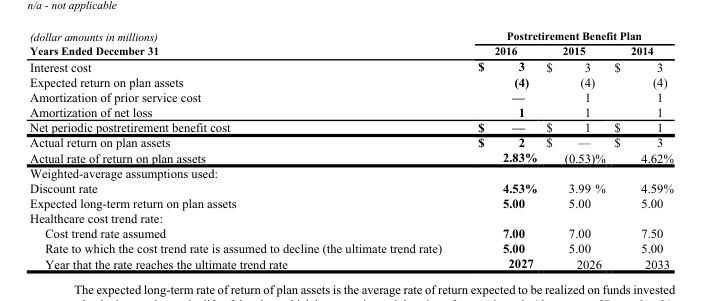table: (29, 29, 672, 270)
table column: (29, 29, 459, 270), (459, 29, 541, 270), (541, 29, 609, 270), (609, 29, 672, 270)
table column header: (29, 29, 672, 58)
table projected row header: (29, 164, 672, 179), (29, 210, 672, 225)
table row: (29, 73, 672, 89), (29, 179, 672, 195), (29, 43, 672, 58), (29, 58, 672, 73), (29, 89, 672, 104), (29, 104, 672, 119), (29, 119, 672, 134), (29, 134, 672, 149), (29, 149, 672, 164), (29, 164, 672, 179), (29, 195, 672, 210), (29, 210, 672, 225), (29, 225, 672, 240), (29, 240, 672, 255), (29, 255, 672, 270), (29, 29, 672, 43)
table spanning cell: (29, 29, 459, 58), (459, 29, 672, 43)
